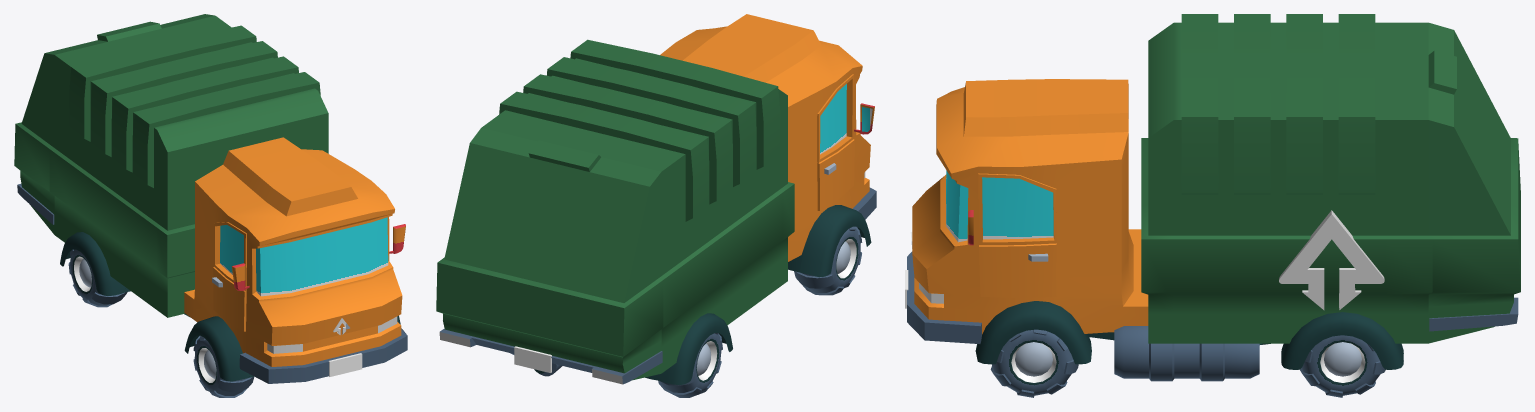
The model's file is Camion_Verde.fbx.
3 renders of one model, left to right at view 1: azimuth 30°, elevation 25°; view 2: azimuth 150°, elevation 25°; view 3: azimuth 270°, elevation 25°, orthographic. The views are drawn at different scales.
Parts seen in each view (by area): view 1: Camion_Verde; view 2: Camion_Verde; view 3: Camion_Verde.
Part boxes in pixels (box(x1,y1,x2,y2)): Camion_Verde: box(14, 14, 407, 397); Camion_Verde: box(436, 14, 876, 397); Camion_Verde: box(905, 14, 1520, 397).
Bounding box in the file's own units: 520 × 651 × 1252.
